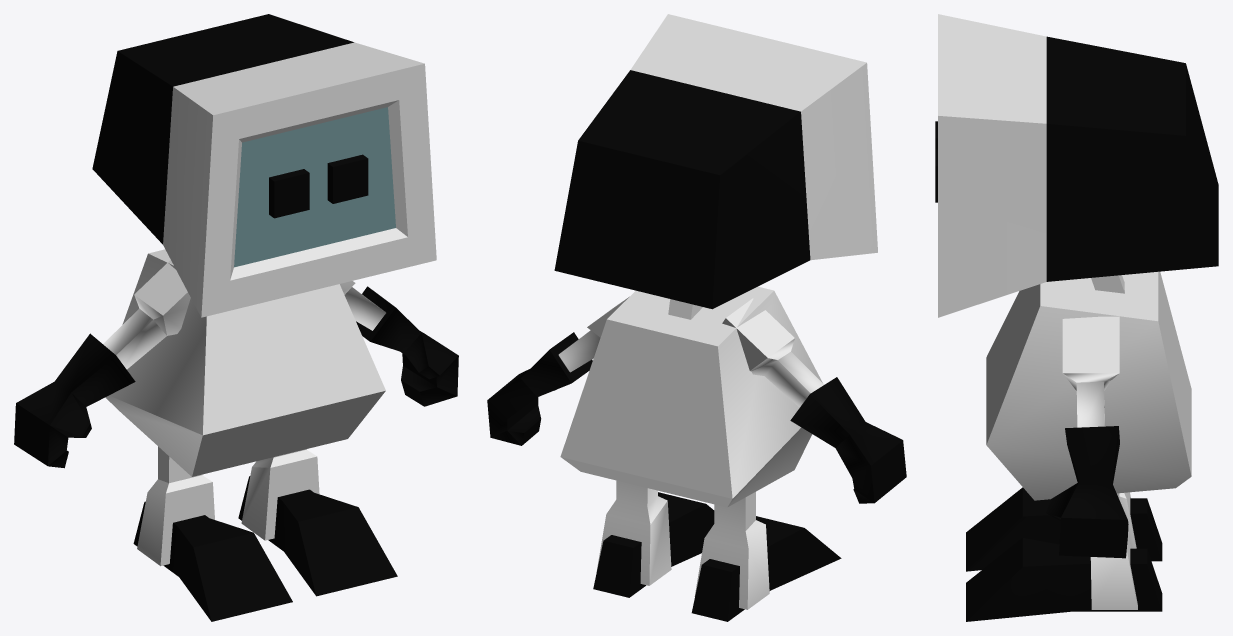
The model's file is bot.glb.
The picture shows the model from 3 angles, left to right: view 1: azimuth 30°, elevation 25°; view 2: azimuth 150°, elevation 25°; view 3: azimuth 270°, elevation 25°; orthographic projection. The views are drawn at different scales.
Parts seen in each view (by area): view 1: Bot; view 2: Bot; view 3: Bot.
Part boxes in pixels (box(x1,y1,x2,y2)): Bot: box(14, 14, 458, 621); Bot: box(487, 14, 906, 621); Bot: box(935, 14, 1218, 621).
Size of the model in its own units: 1.37 by 1.65 by 0.8293.
